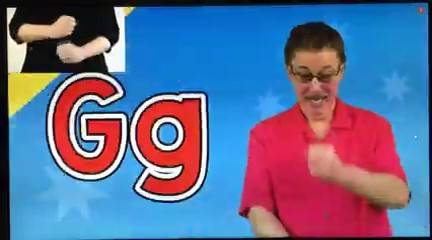G: (52, 13, 82, 66)
